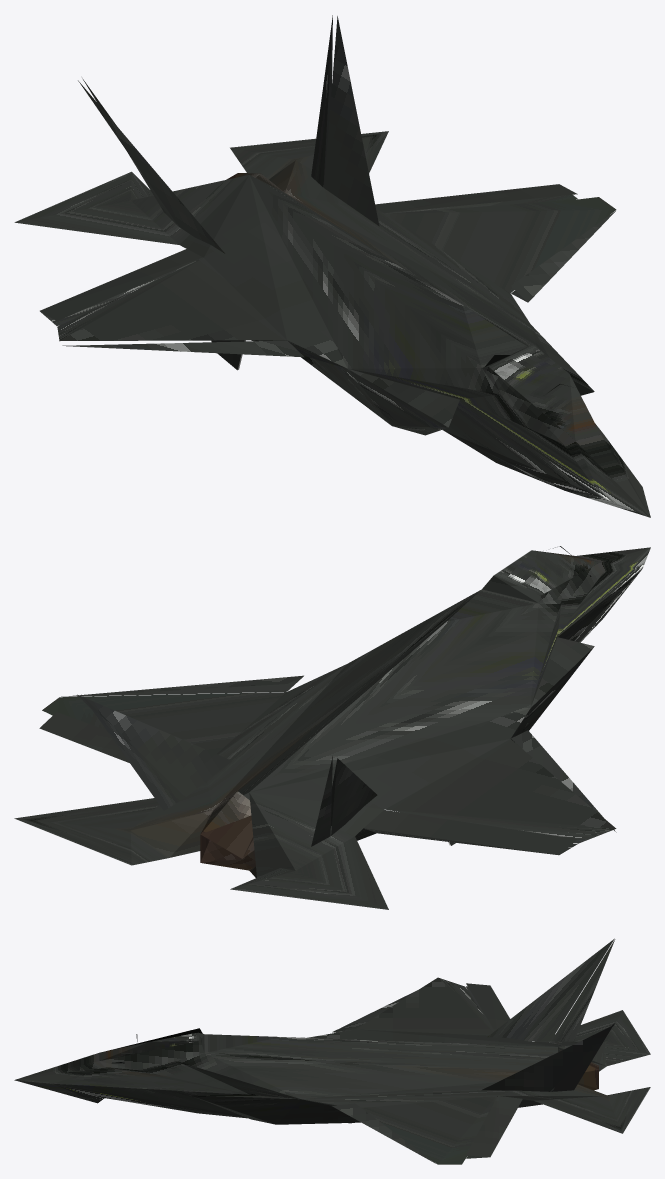
The picture shows the model from 3 angles, top to bottom: view 1: azimuth 30°, elevation 25°; view 2: azimuth 150°, elevation 25°; view 3: azimuth 270°, elevation 25°; orthographic projection. The views are drawn at different scales.
Visible parts, largest first — view 1: Object_4; view 2: Object_4; view 3: Object_4.
Part boxes in pixels (x1,y1,x2,y2): Object_4: [14, 15, 650, 517]; Object_4: [14, 546, 650, 909]; Object_4: [14, 938, 650, 1164].
Bounding box in the file's own units: 10.76 × 3.72 × 15.73.
1 material, 1 textured.
